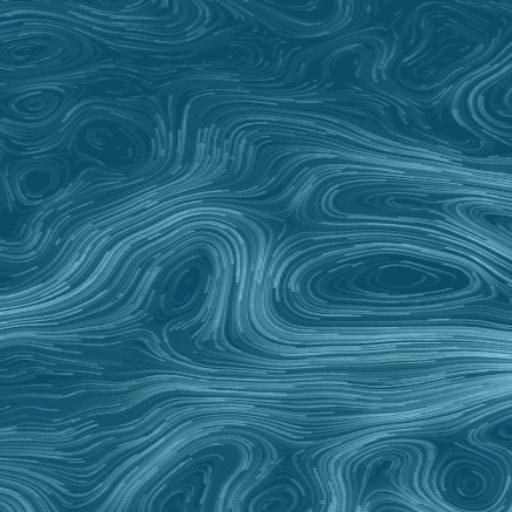eddy: (300, 247, 478, 308), (71, 112, 147, 174), (155, 253, 214, 316), (10, 158, 65, 209), (2, 29, 66, 69), (12, 86, 61, 121), (450, 466, 488, 501)
